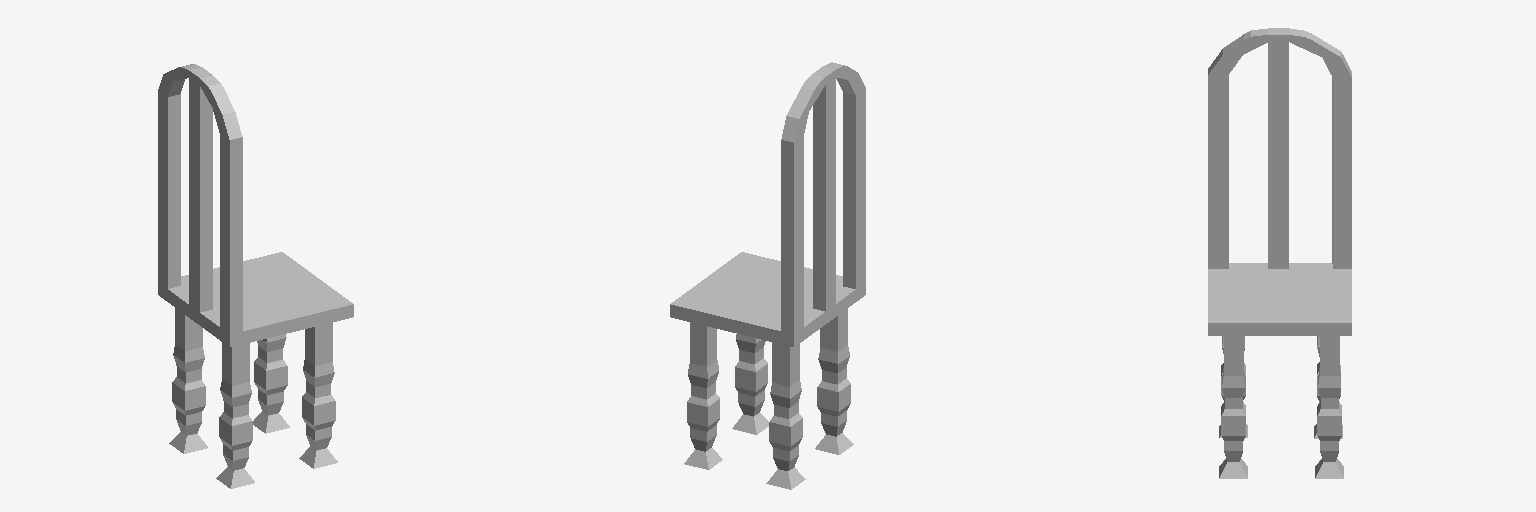
The model's file is chair.obj.
3 renders of one model, left to right at view 1: azimuth 30°, elevation 25°; view 2: azimuth 150°, elevation 25°; view 3: azimuth 270°, elevation 25°, orthographic.
Parts seen in each view (by area): view 1: Cube.001; view 2: Cube.001; view 3: Cube.001.
Part boxes in pixels (x1,y1,x2,y2): Cube.001: (158, 64, 353, 488); Cube.001: (670, 62, 865, 489); Cube.001: (1208, 28, 1351, 478).
Size of the model in its own units: 1.45 by 4.39 by 1.45.